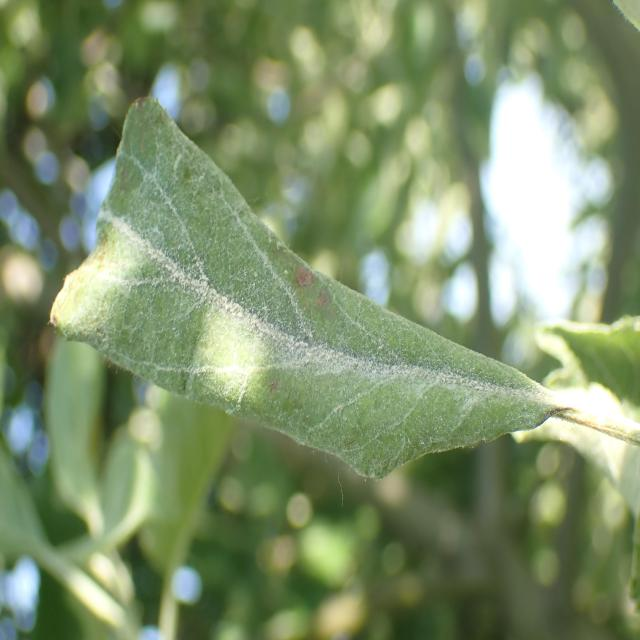Powdery_mildew: (37, 79, 571, 486)
